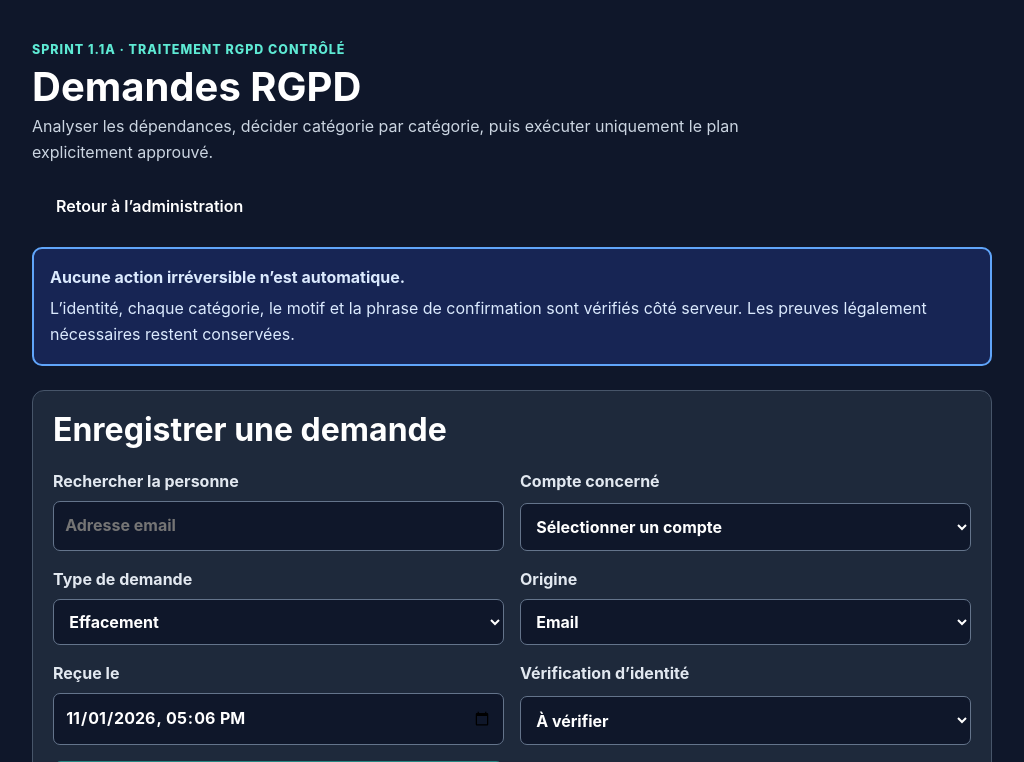
Test: workflow RGPD non destructif › analyse un compte vide sans proposer de suppression réelle
Expected: the text "Aucune action irréversible n’est automatique." is shown, [50, 267, 405, 287]
Type "erreur-inscription@example.test" into the search field labelled "Rechercher la personne".
click(278, 526); type("erreur-inscription@example.test")  # box [53, 501, 504, 551]
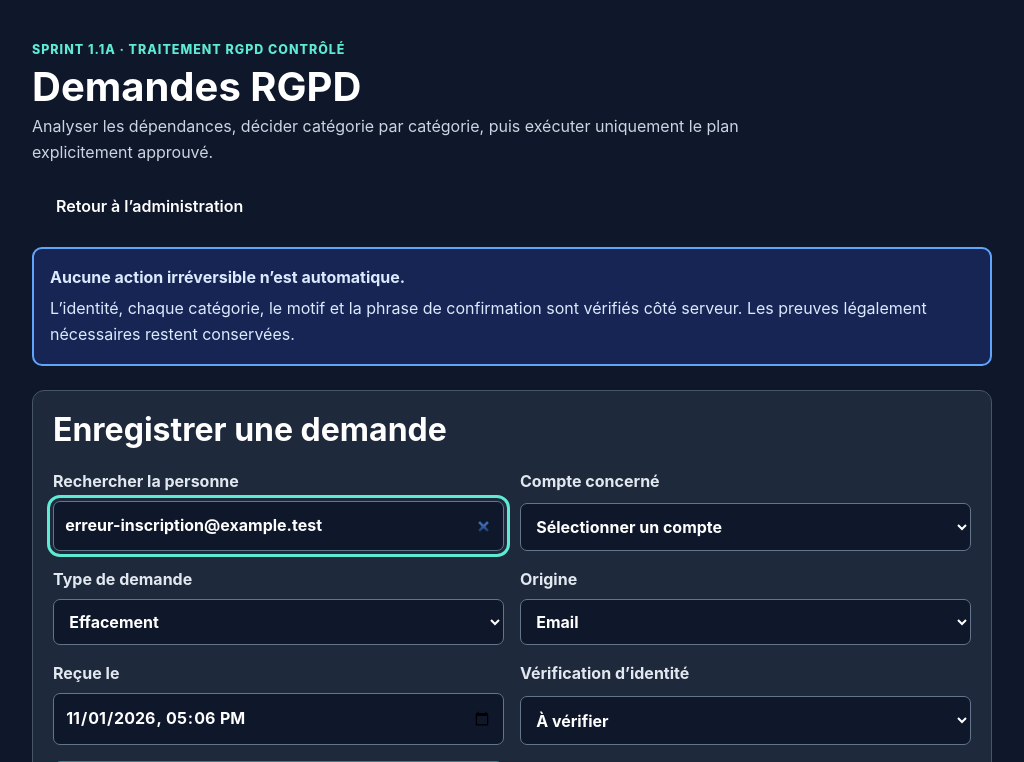
Select "erreur-inscription@example.test · user" in the dropdown labelled "Compte concerné" at (746, 527), box [520, 503, 971, 551]
(page scrolled)
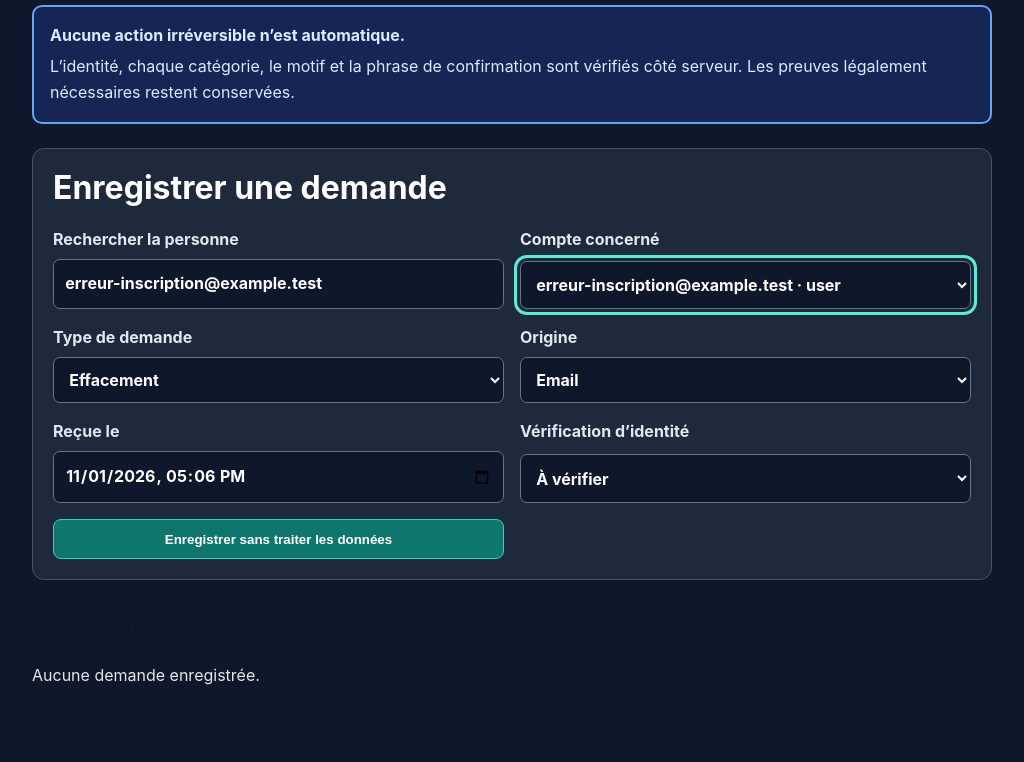
Click the button "Enregistrer sans traiter les données".
click(278, 539)  # box [53, 519, 504, 559]
(page scrolled)
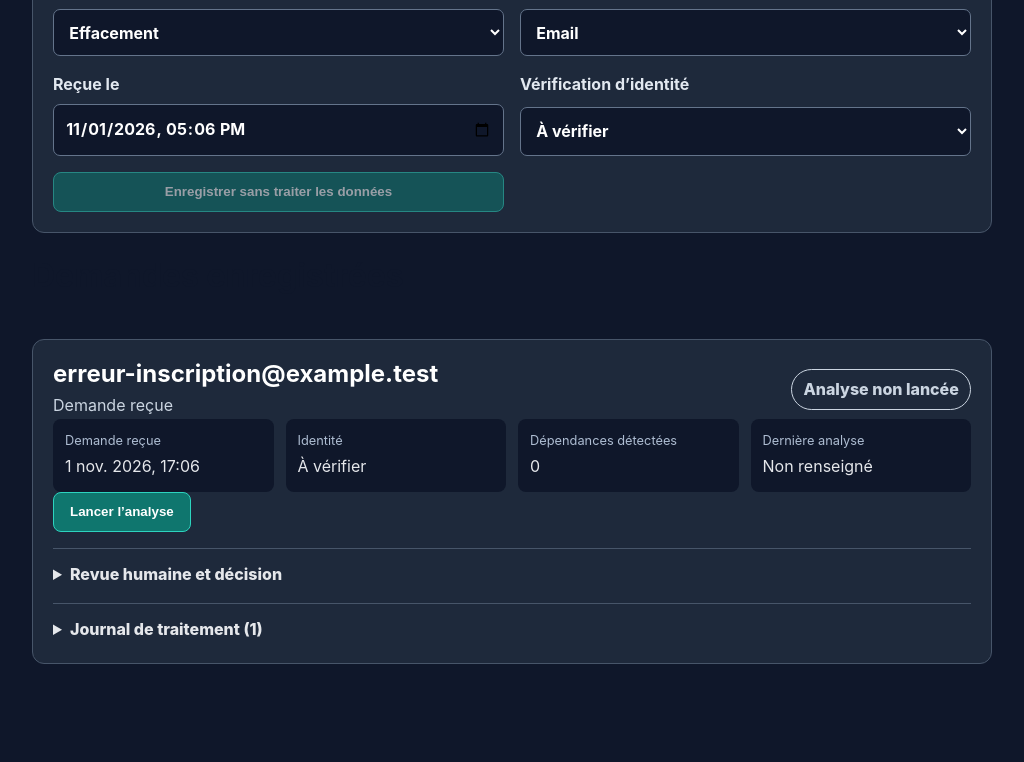
Click the button "Lancer l’analyse".
click(122, 512)  # box [53, 492, 191, 532]
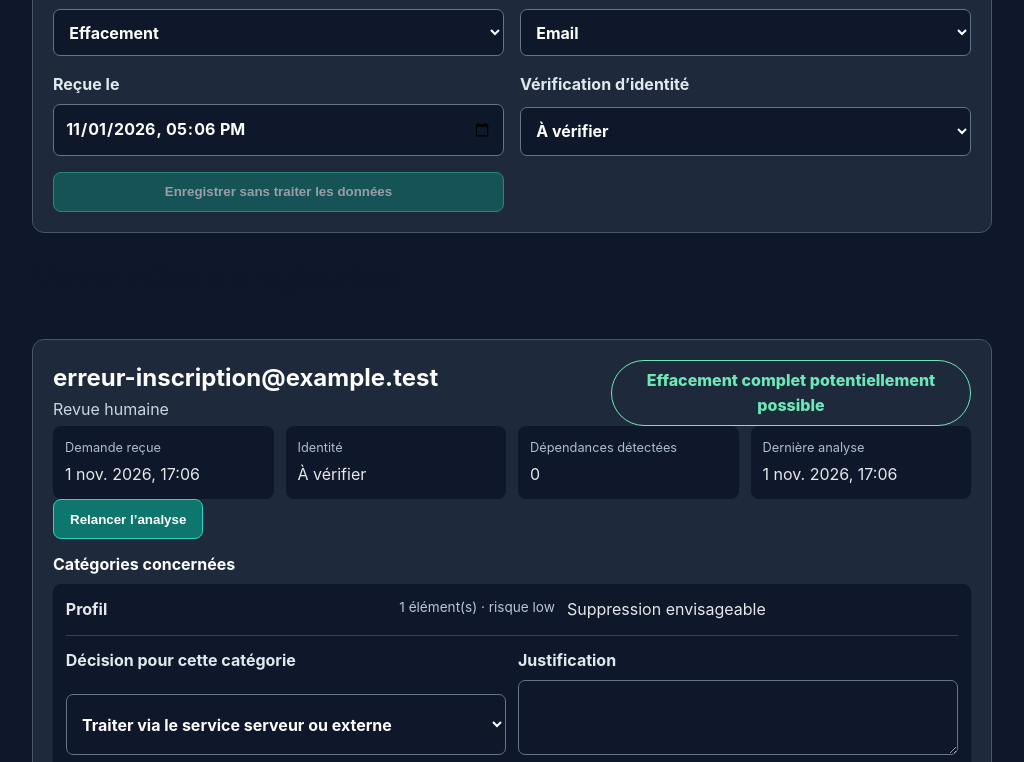
Now the text "Effacement complet potentiellement possible" is shown, box [611, 360, 971, 426]
